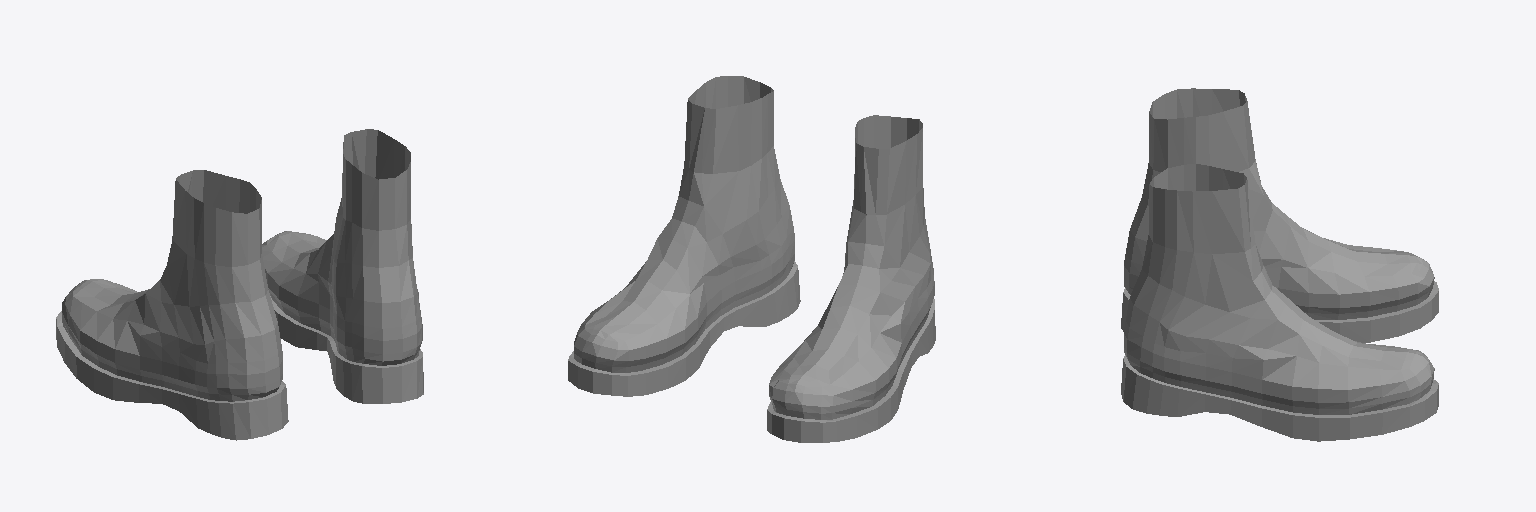
File: Army_boots.obj
3 renders of one model, left to right at view 1: azimuth 30°, elevation 25°; view 2: azimuth 150°, elevation 25°; view 3: azimuth 270°, elevation 25°, orthographic.
Parts seen in each view (by area): view 1: Plane; view 2: Plane; view 3: Plane.
Boxes of the visible parts, x1,y1,x2,y2 form: Plane: [56, 129, 423, 440]; Plane: [568, 76, 935, 442]; Plane: [1121, 88, 1438, 441].
Bounding box in the file's own units: 8.77 × 6.77 × 8.36.